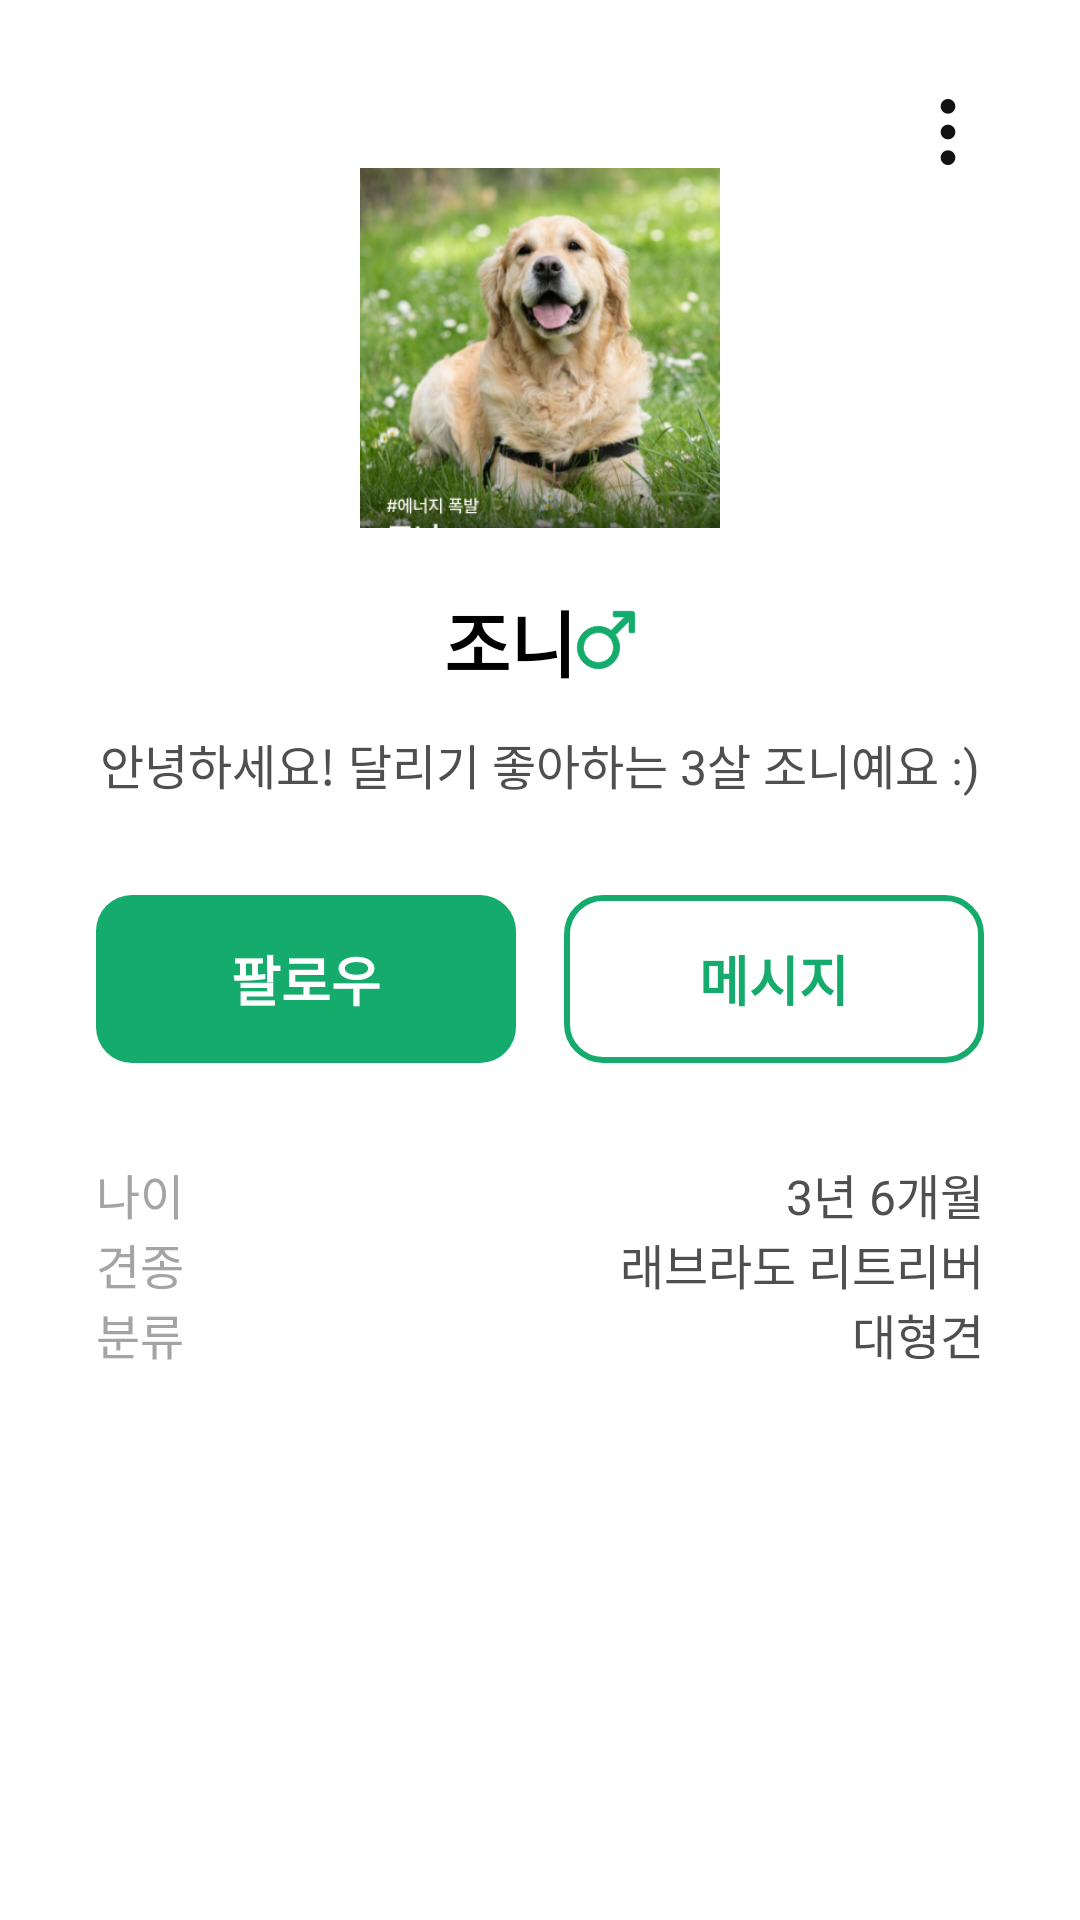

Icons on this 1080px x 1920px Android screen, each with the point to tap as (x=x, y=y):
더보기: (x=948, y=132)
성별: (x=606, y=640)
